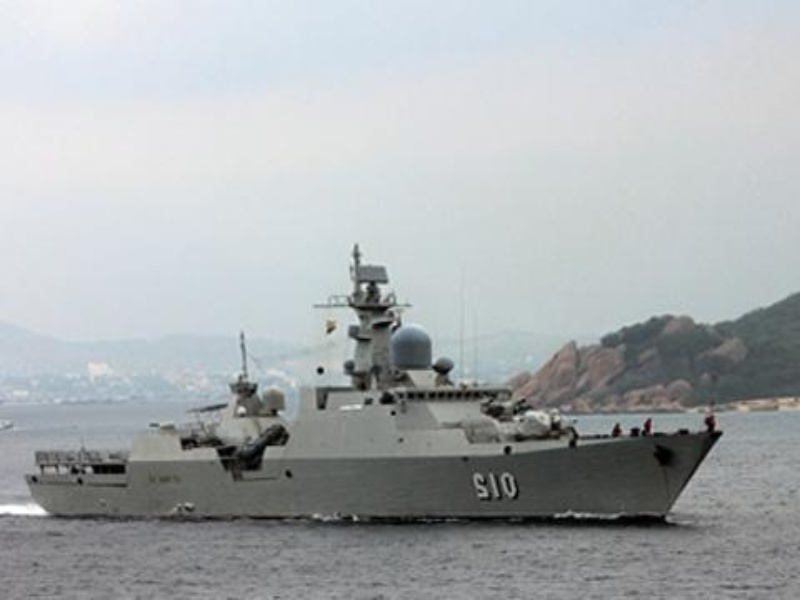cruise: (42, 315, 723, 536)
